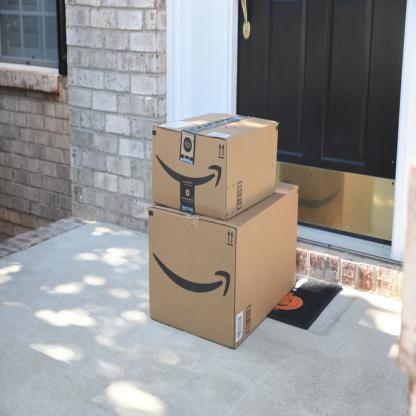package: (150, 181, 299, 350), (151, 111, 279, 221)
